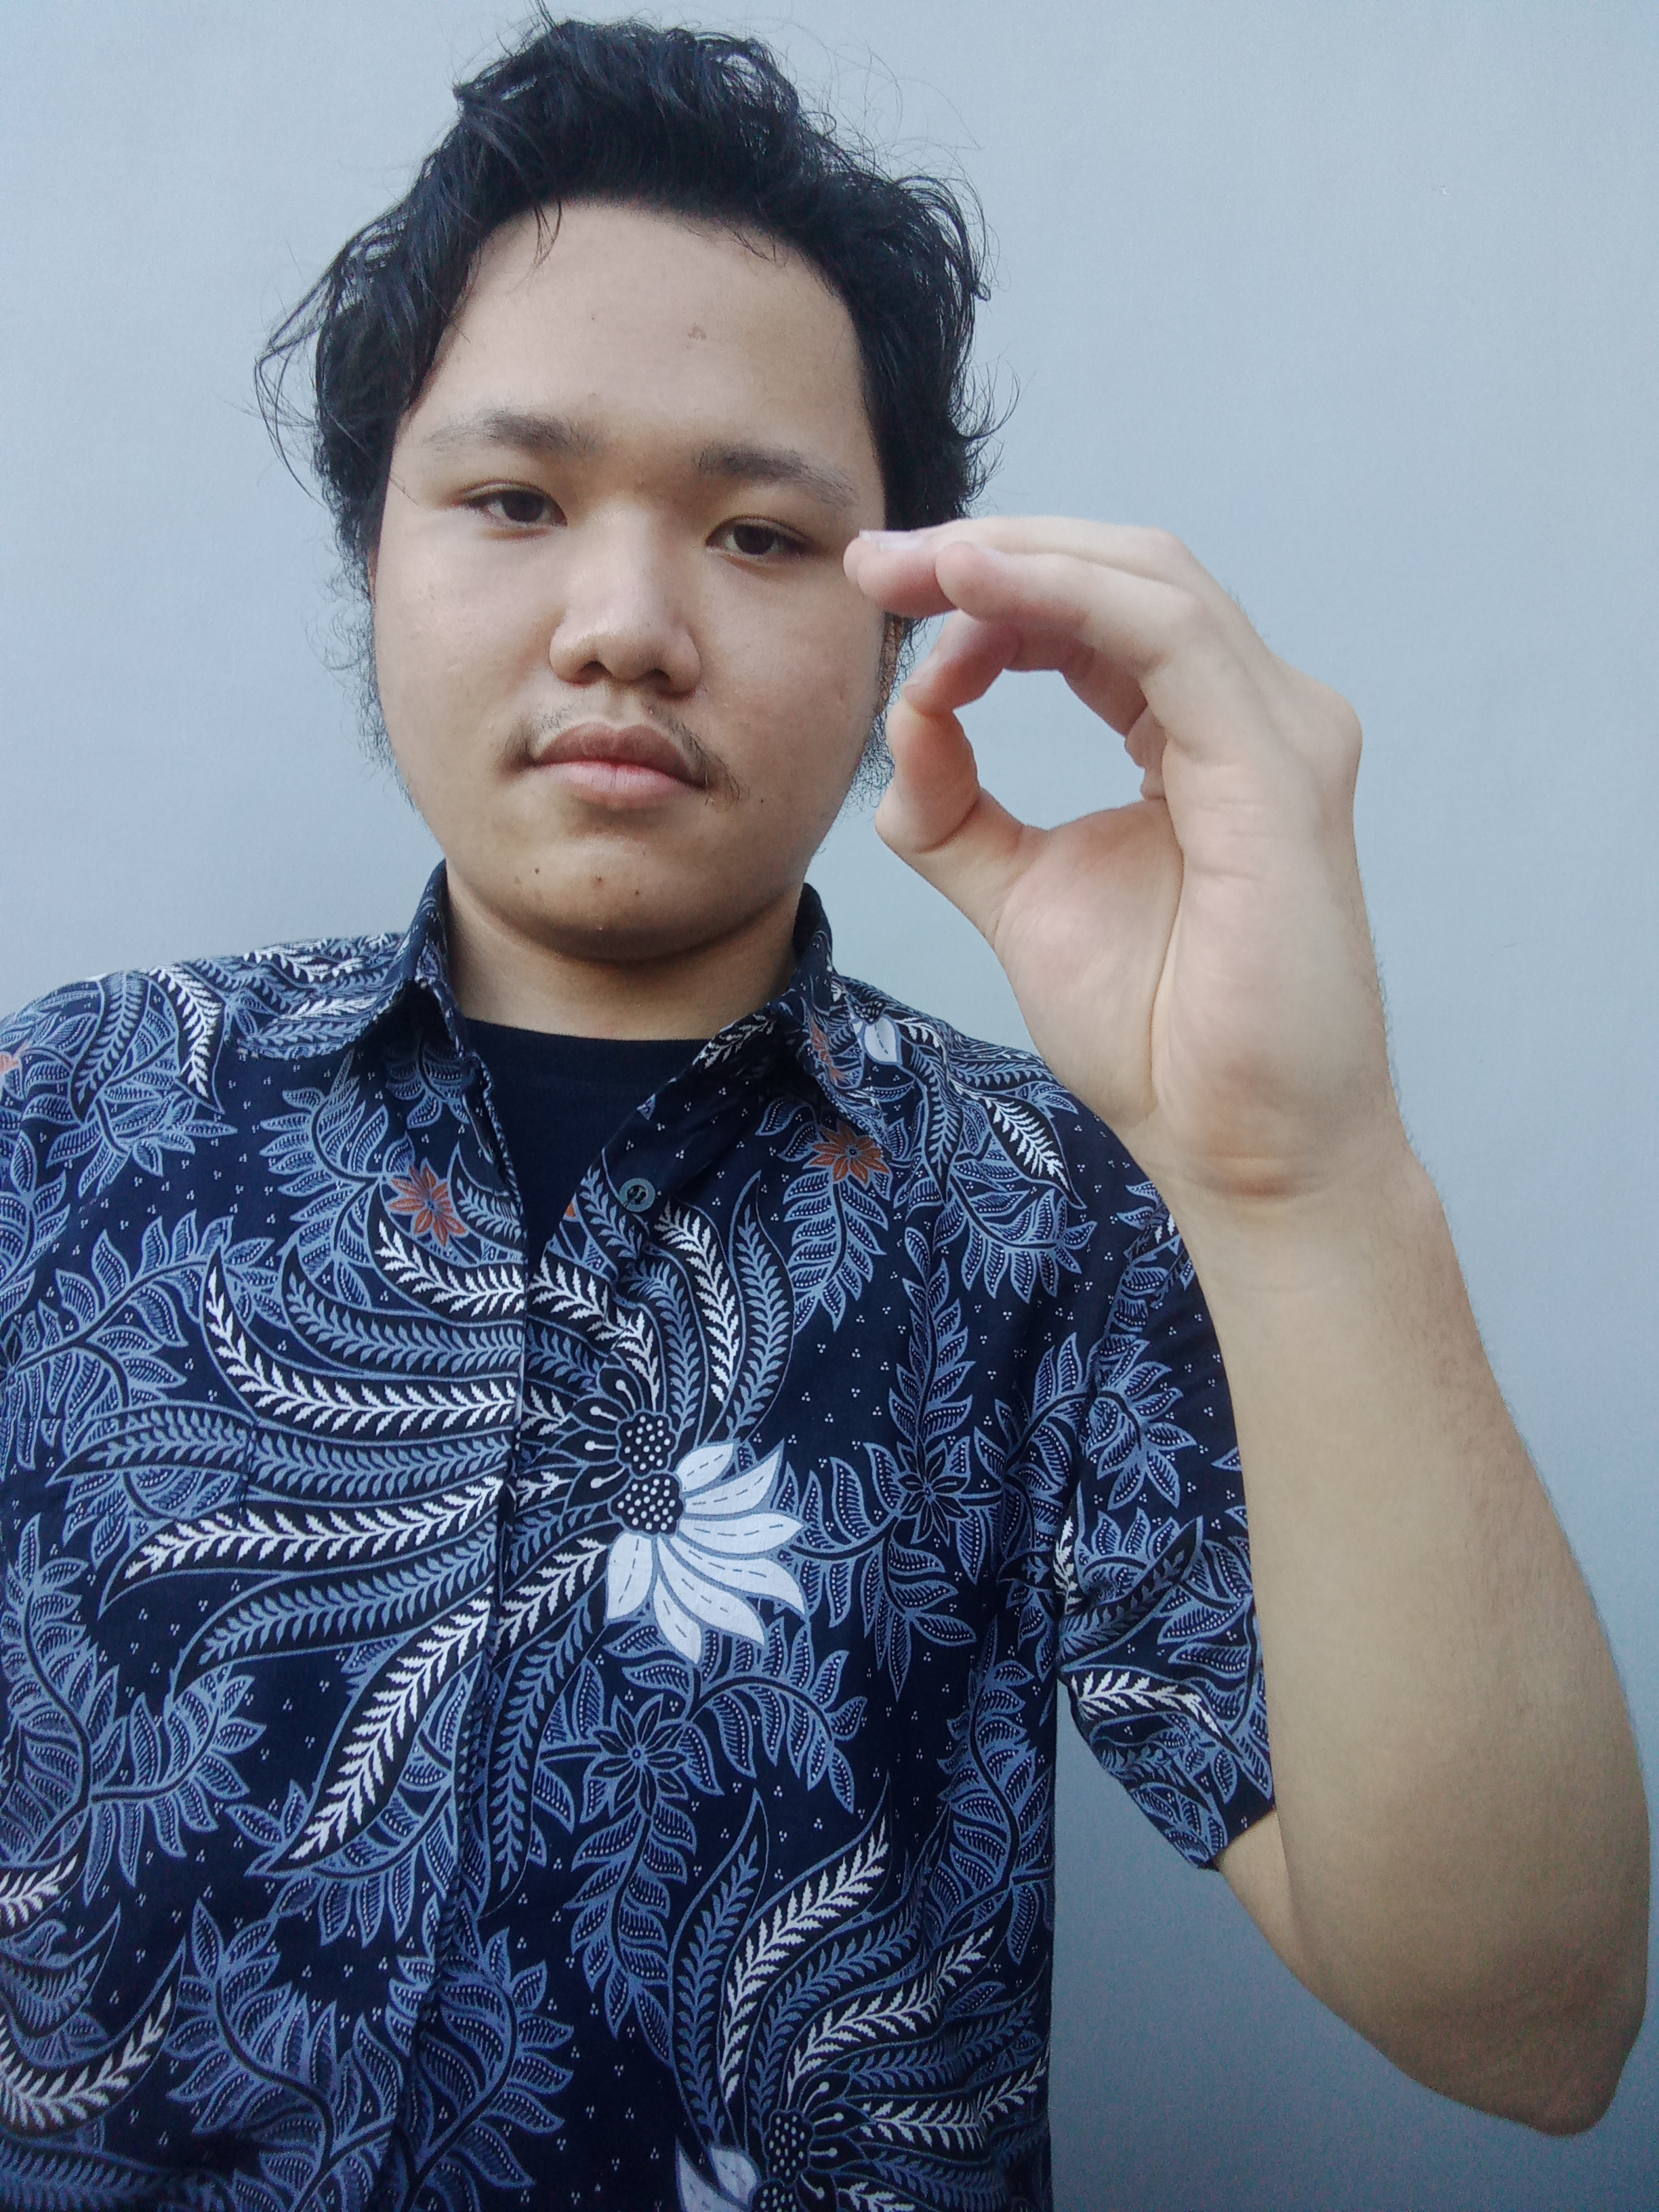O: (835, 479, 1450, 1261)
